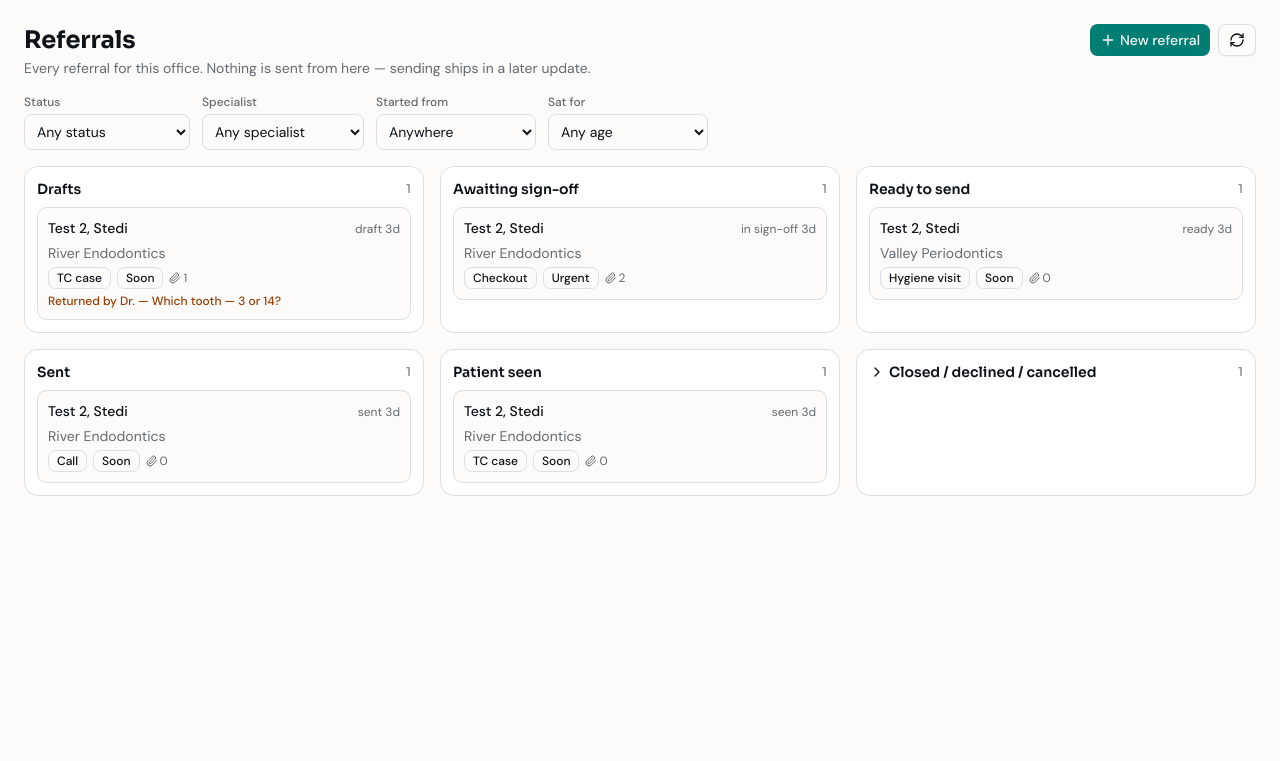
Test: the detail panel › honest states: a refused edit keeps the form open with the server's words, and nothing reads as saved
This screenshot has width=1280, height=761.
Click the 1st button with test id "tc-hub-card" at (88, 228), box [37,207,411,320]
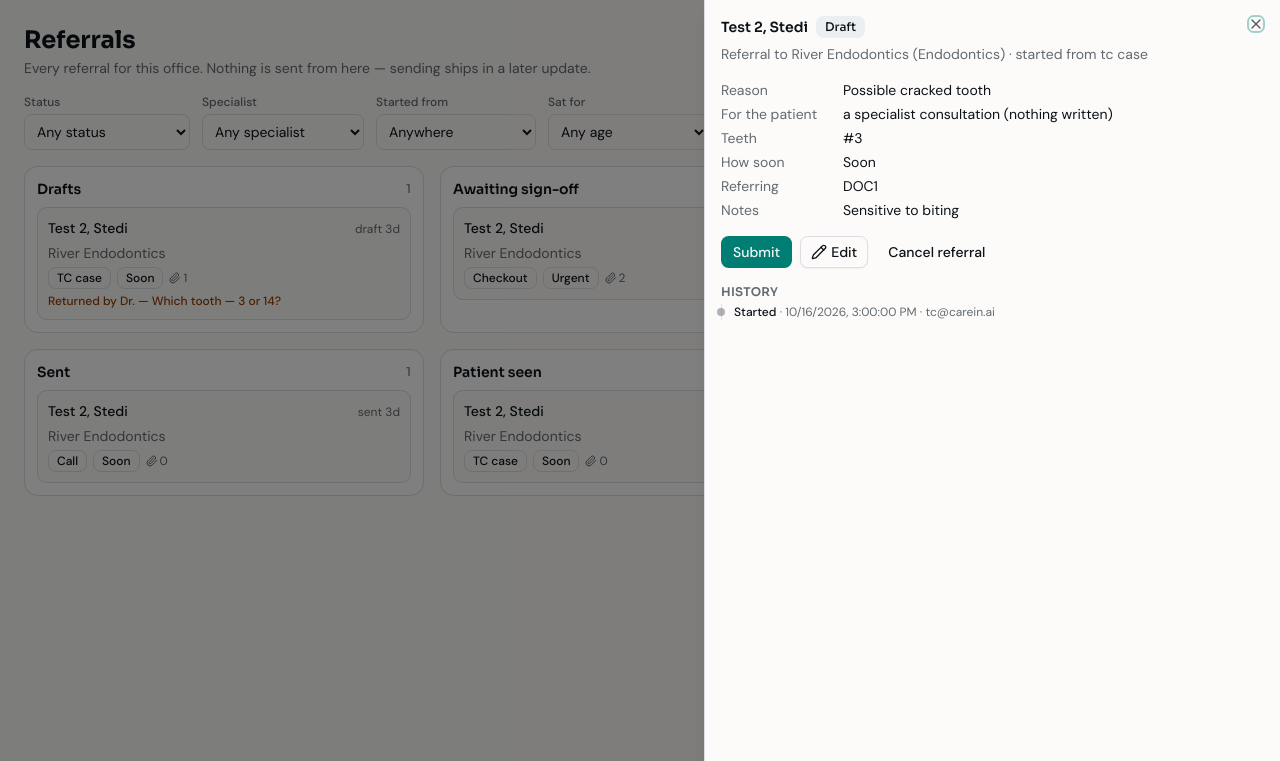
Expected: the list with test id "referral-timeline" is shown, [721,304,1264,320]
Click the button "Edit" at (834, 252), box [800,236,868,268]
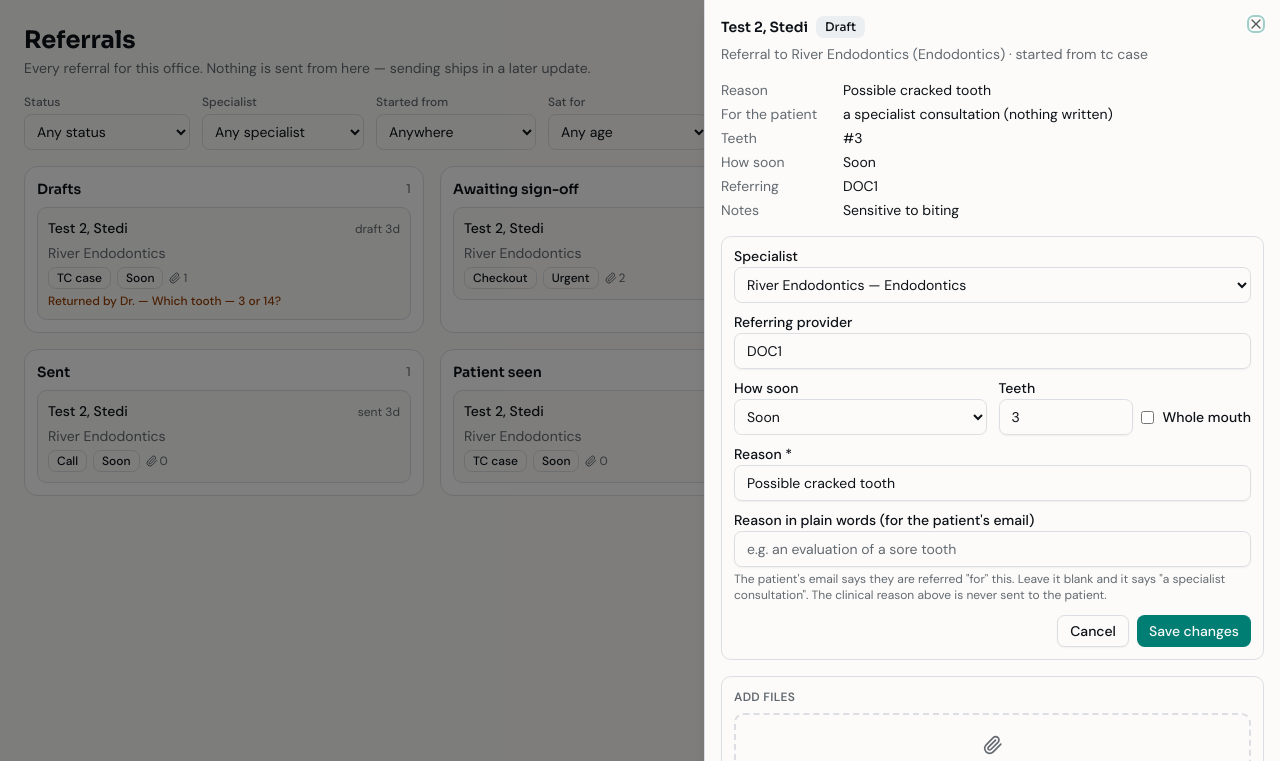
Select "Urgent" in the dropdown labelled "How soon" at (860, 417), box [734,399,986,435]
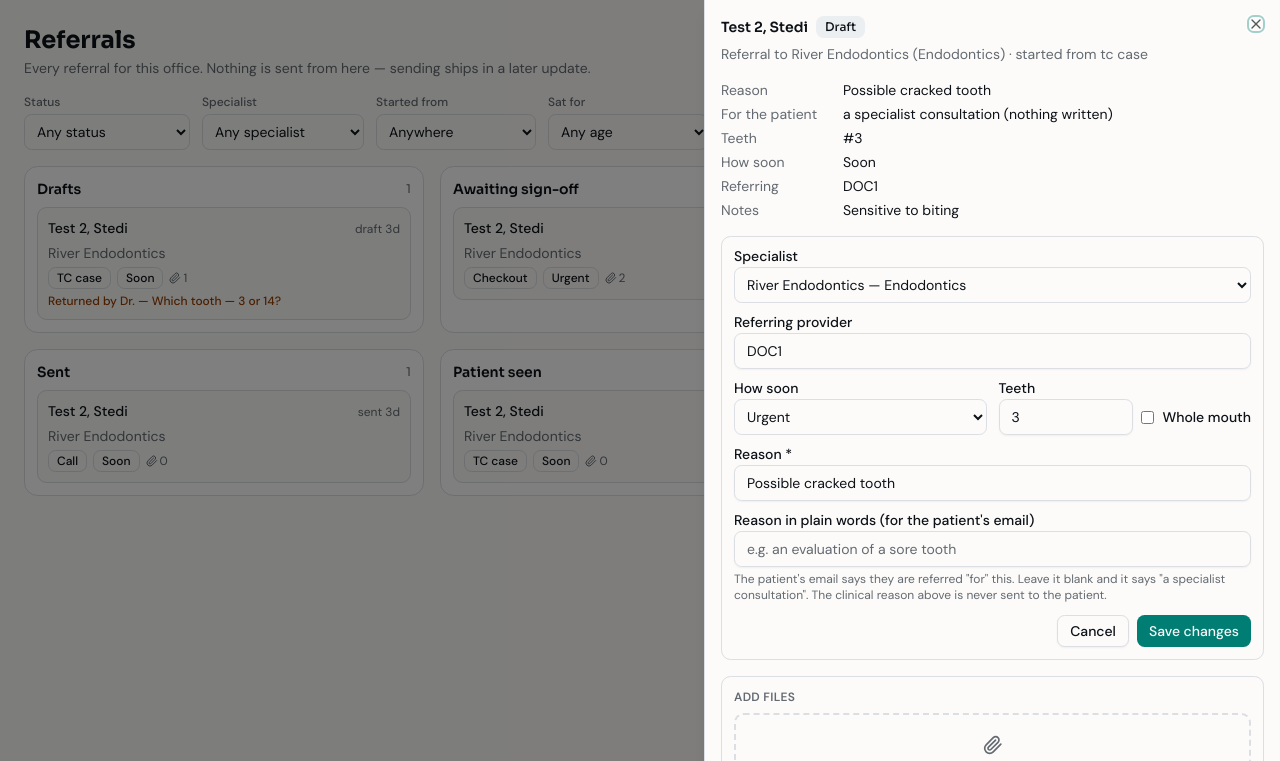
Click the button "Save changes" at (1194, 631), box [1137,615,1251,647]
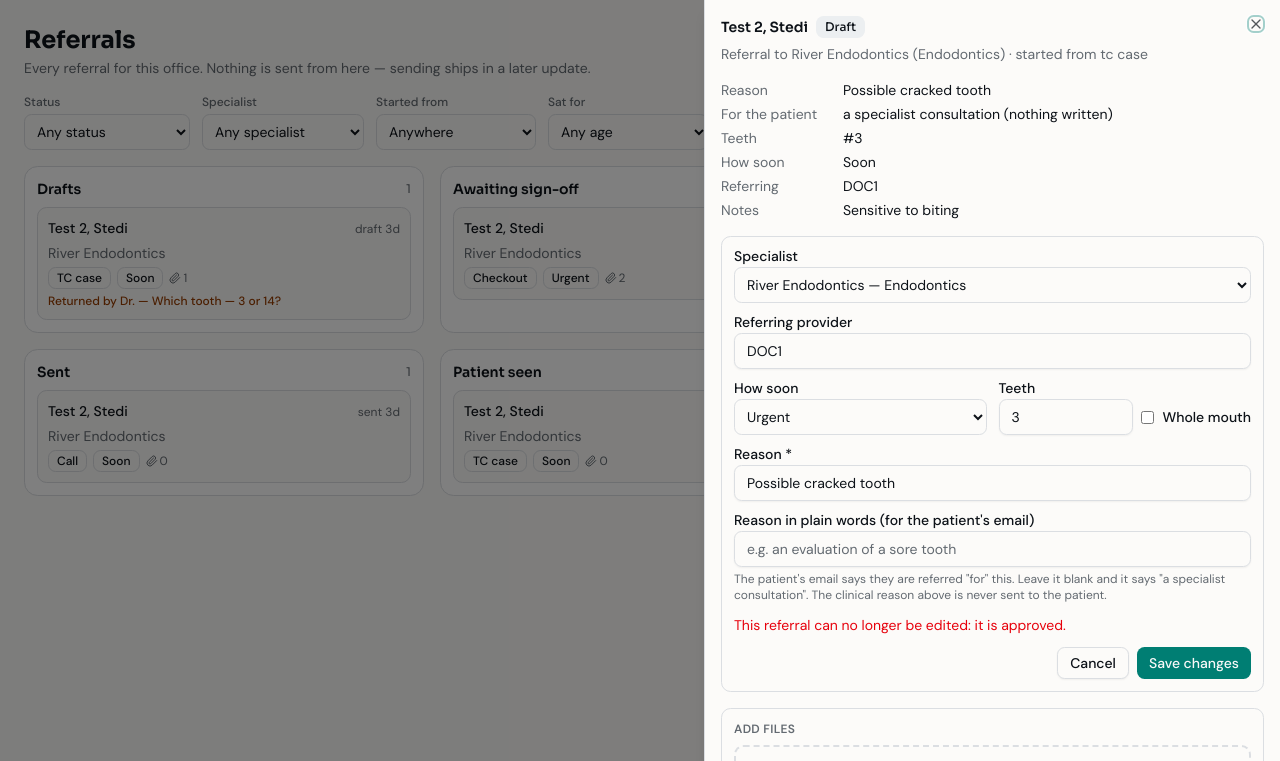
Expected: the element with test id "referral-fields-form" is shown, [721,236,1264,692]
Expected: the text "This referral can no longer be edited: it is approved." is shown, [734,616,1066,634]
